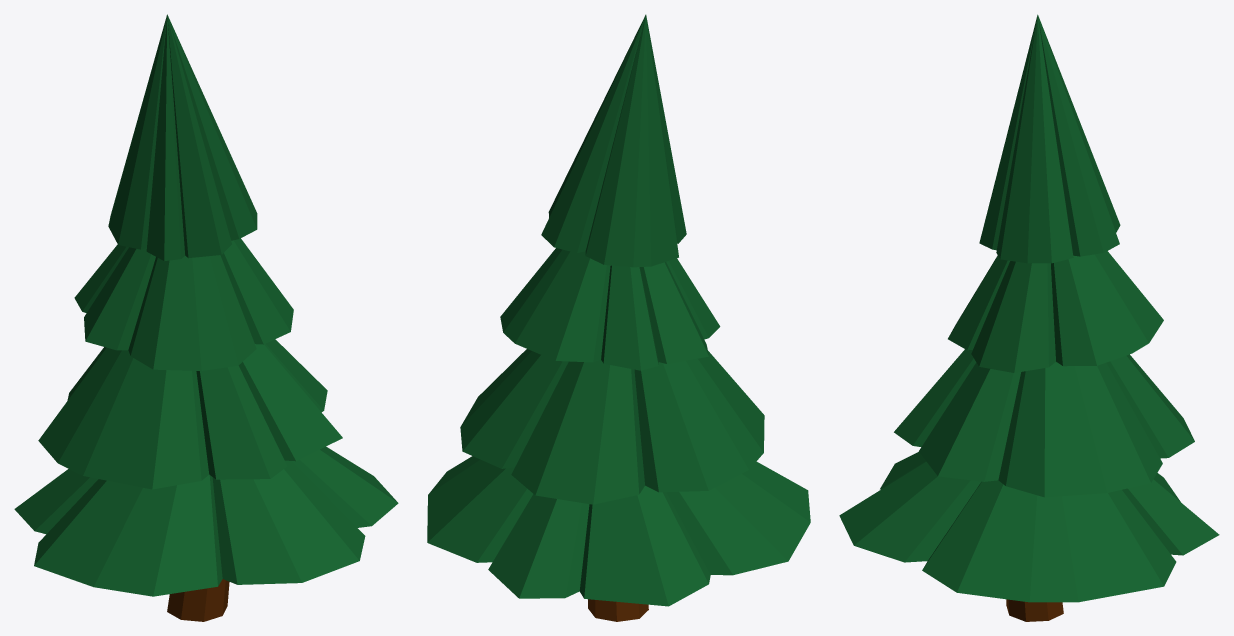
File: tree_pine.fbx
3 renders of one model, left to right at view 1: azimuth 30°, elevation 25°; view 2: azimuth 150°, elevation 25°; view 3: azimuth 270°, elevation 25°, orthographic. The views are drawn at different scales.
Visible parts, largest first — view 1: tree_pine; view 2: tree_pine; view 3: tree_pine.
Boxes of the visible parts, x1,y1,x2,y2 form: tree_pine: (14,14,398,621); tree_pine: (427,14,810,621); tree_pine: (839,14,1219,621).
Size of the model in its own units: 2.61 by 4.4 by 2.61.
